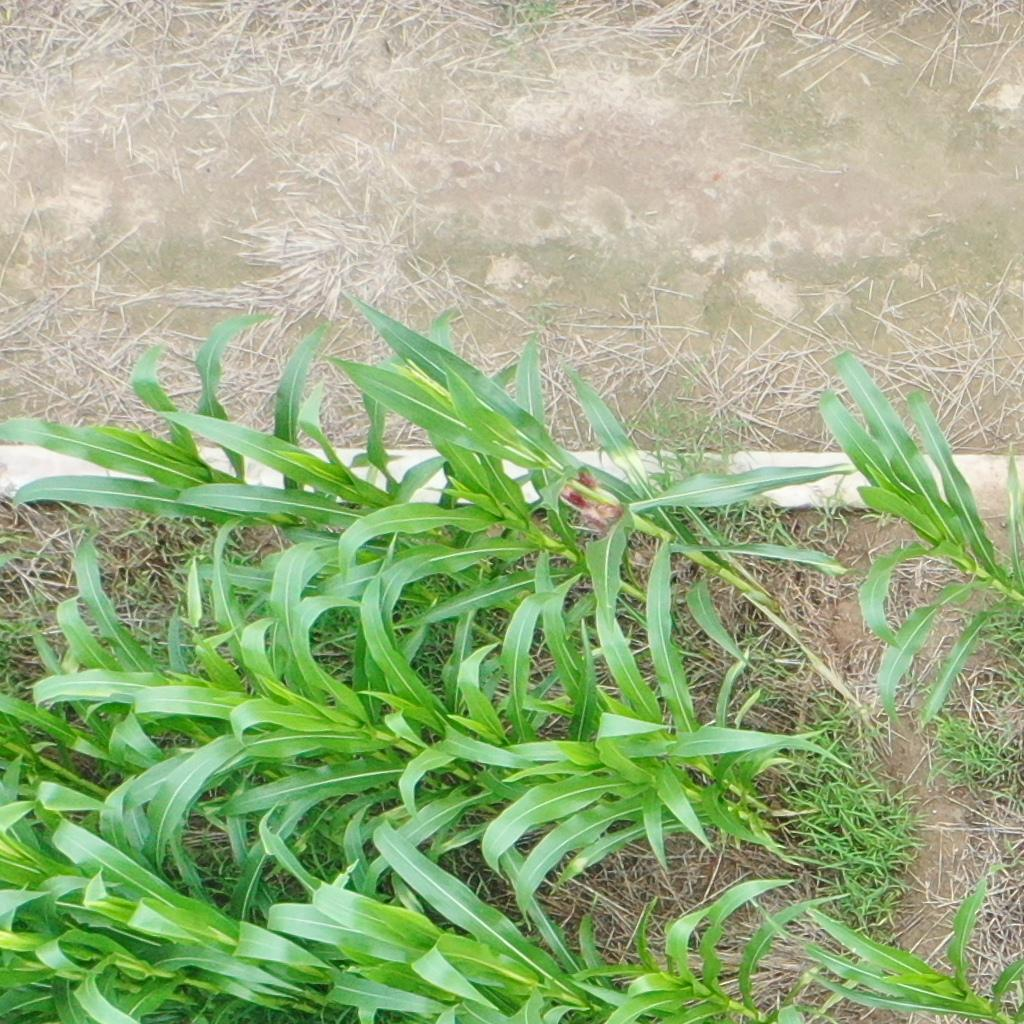Tassel: (396, 357, 455, 405)
